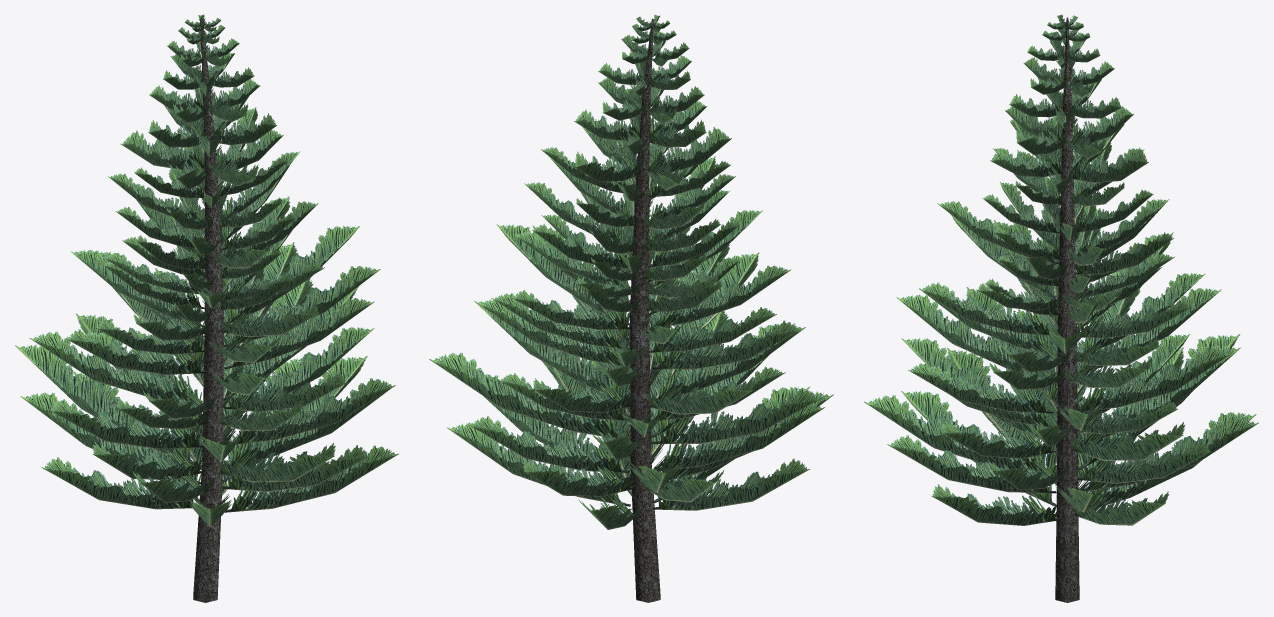
File: Tree.dae
3 views of the same model, side by side, from view 1: azimuth 30°, elevation 25°; view 2: azimuth 150°, elevation 25°; view 3: azimuth 270°, elevation 25° (orthographic).
Parts seen in each view (by area): view 1: norfork_branch202 (×69), trunk, norfork_branch202_1 (×6); view 2: norfork_branch202 (×64), trunk, norfork_branch202_1 (×8); view 3: norfork_branch202 (×64), trunk, norfork_branch202_1 (×6).
Part boxes in pixels (left/top/right/bottom): norfork_branch202 (×69): left=15, top=151, right=398, bottom=512; trunk: left=193, top=18, right=223, bottom=602; norfork_branch202_1 (×6): left=120, top=113, right=283, bottom=171; norfork_branch202 (×64): left=429, top=150, right=824, bottom=529; trunk: left=630, top=19, right=660, bottom=602; norfork_branch202_1 (×8): left=574, top=109, right=731, bottom=183; norfork_branch202 (×64): left=864, top=182, right=1258, bottom=525; trunk: left=1055, top=17, right=1079, bottom=602; norfork_branch202_1 (×6): left=990, top=106, right=1148, bottom=182.
Bounding box in the file's own units: 163 × 165 × 265.
